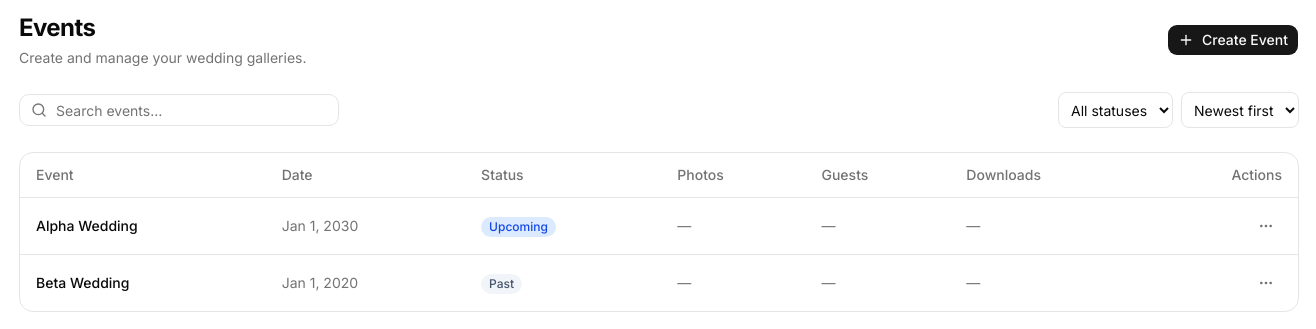
Test case: Events page (integration) › filters the list by search term
This screenshot has width=1316, height=329.
Type "alpha" into the field labelled "Search".
click(179, 110); type("alpha")  # box 19,94 -> 339,126
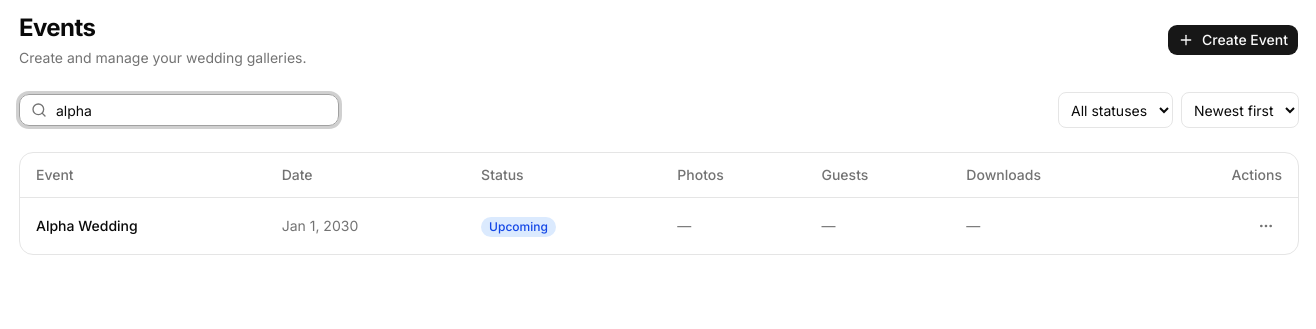
Expected: the link "Alpha Wedding" is shown, 36,217 -> 138,234
Expected: no links "Beta Wedding" are shown
